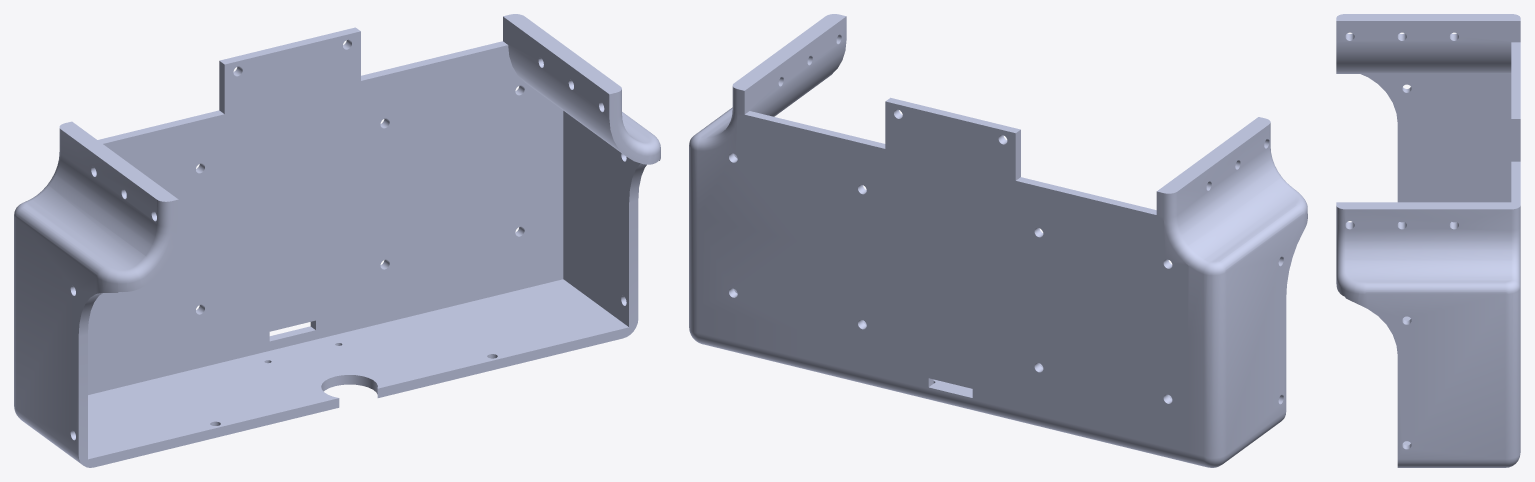
The model's file is antenna_base_1.dae.
3 views of the same model, side by side, from view 1: azimuth 30°, elevation 25°; view 2: azimuth 150°, elevation 25°; view 3: azimuth 270°, elevation 25° (orthographic). The views are drawn at different scales.
Parts seen in each view (by area): view 1: node0; view 2: node0; view 3: node0.
Boxes of the visible parts, left/top/right/bottom form: node0: left=14, top=14, right=660, bottom=467; node0: left=689, top=14, right=1307, bottom=467; node0: left=1336, top=14, right=1520, bottom=467.
Bounding box in the file's own units: 0.1819 × 0.0953 × 0.06.
